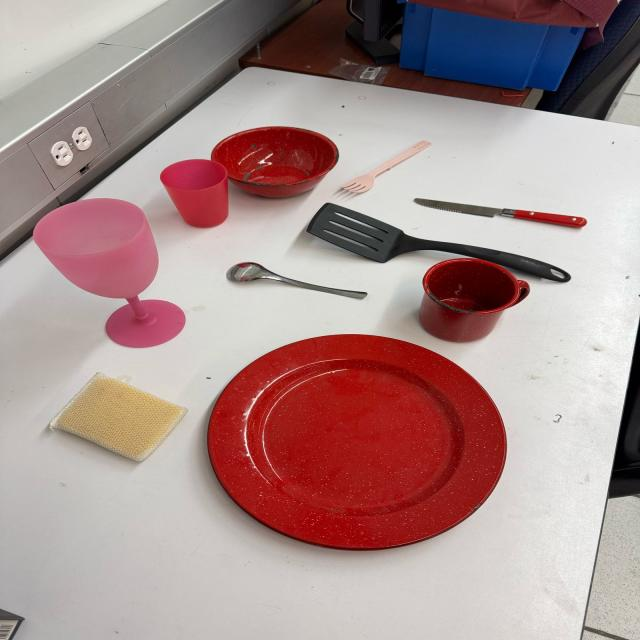cup: (416, 256, 534, 338)
fork: (336, 138, 433, 195)
glass: (159, 160, 231, 228)
knife: (416, 198, 589, 229)
plate: (202, 334, 510, 554)
spatula: (307, 202, 582, 286)
sponge: (47, 371, 192, 463)
spoon: (225, 260, 367, 300)
tazon: (211, 126, 340, 198)
wineglass: (32, 198, 190, 349)
